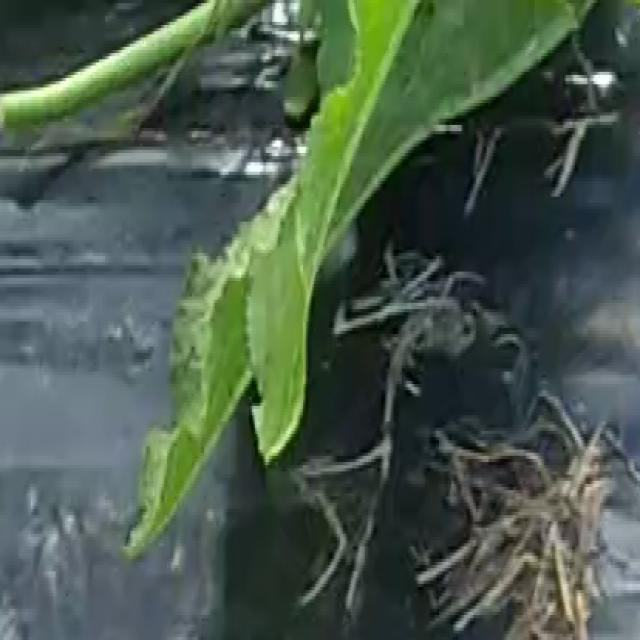organic waste: (136, 0, 609, 556)
